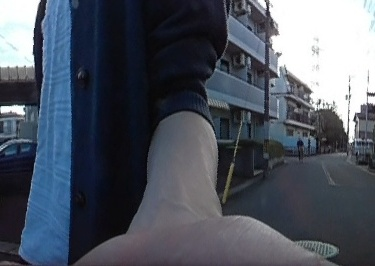person: (295, 135, 304, 161)
